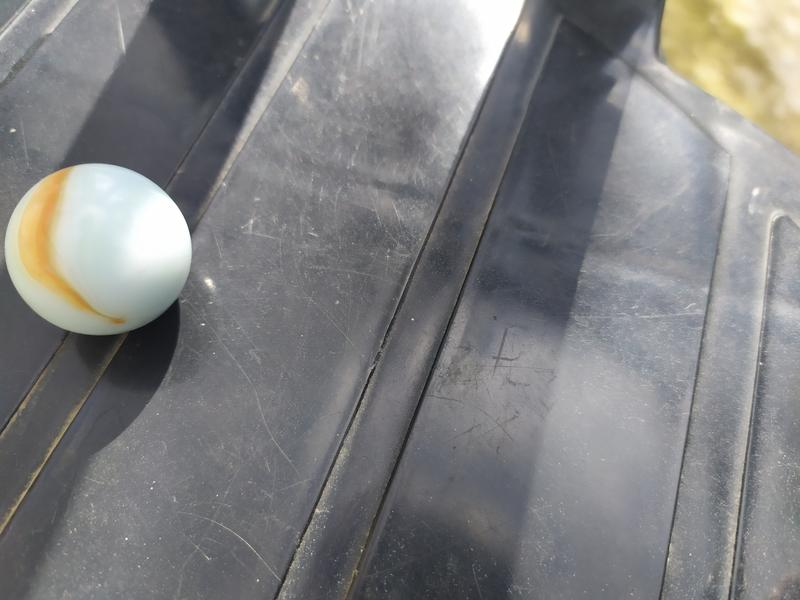Warning: (2, 160, 197, 340)
